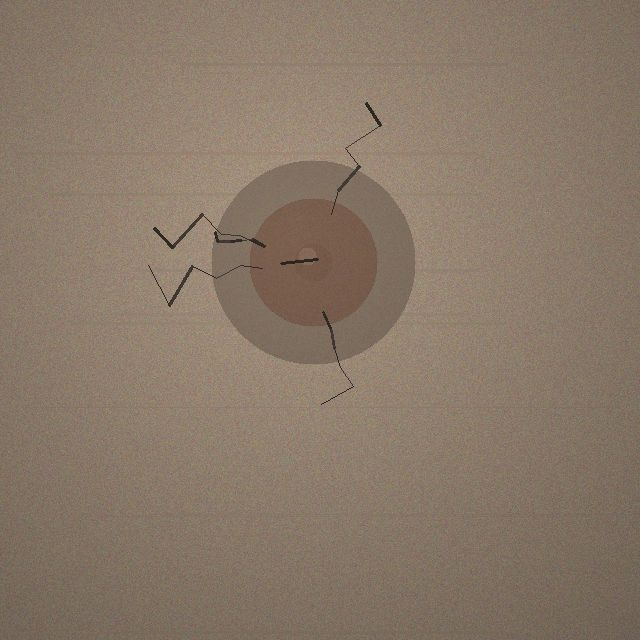crack: (211, 160, 415, 364)
